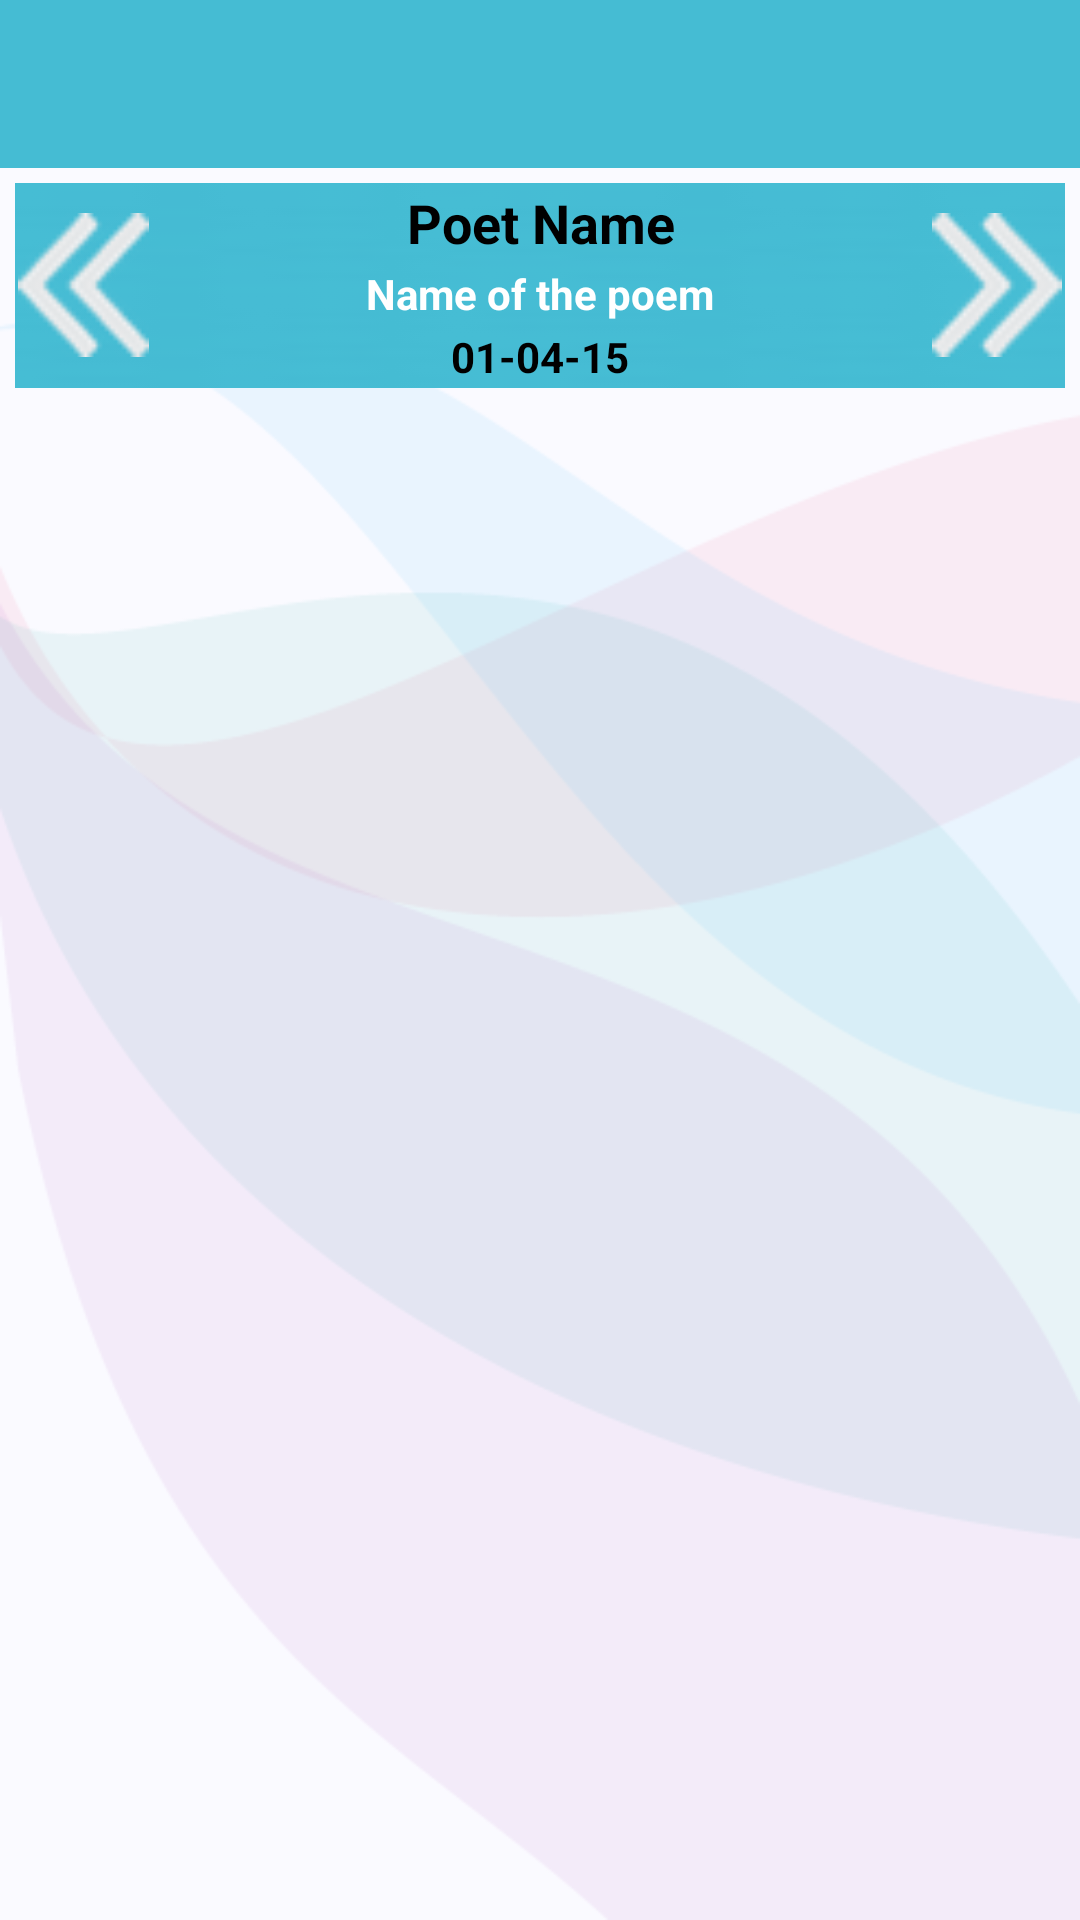

Where to tap for icons on this 1080x1920 app screen, as [x,y]:
butt left arrows: [83,285]
butt right arrows: [997,285]
